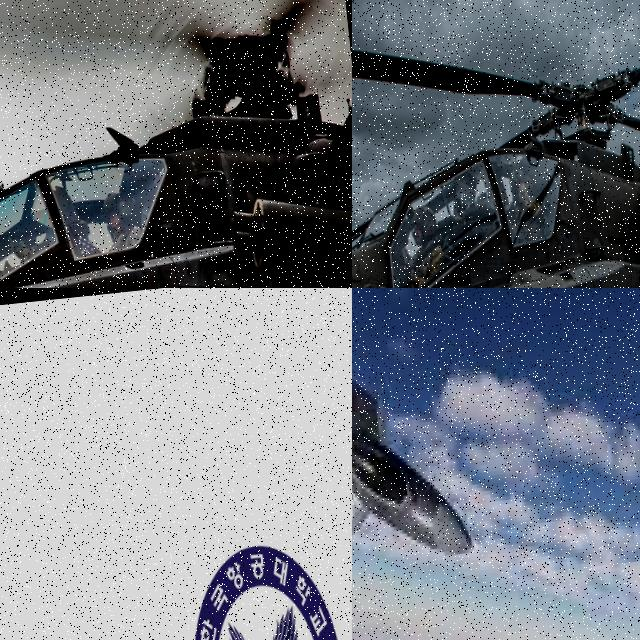Apache: (0, 0, 352, 288), (352, 0, 640, 288)
F22: (352, 288, 477, 607)
KAU_Marker: (177, 527, 352, 640)
